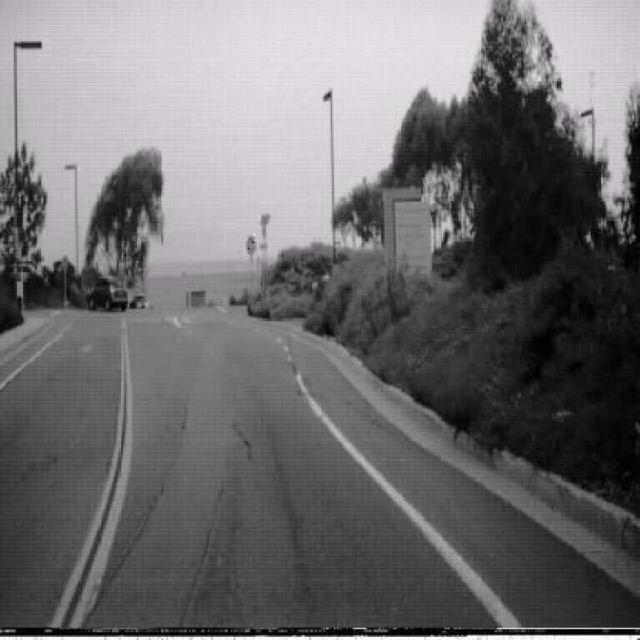stop: (245, 234, 257, 255)
